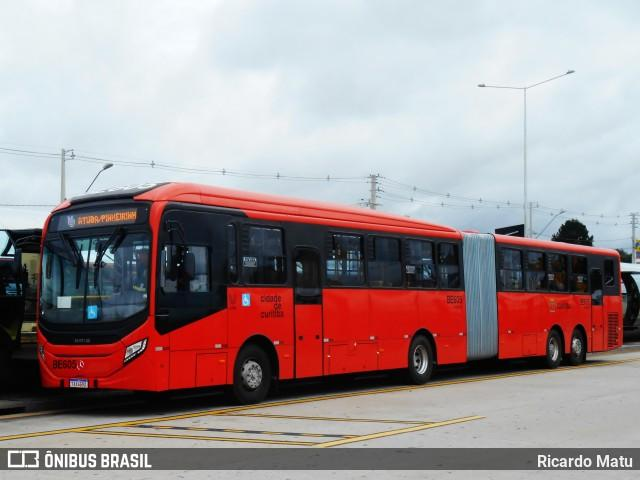ATUBA PINHEIRINHO: (74, 208, 139, 227)
